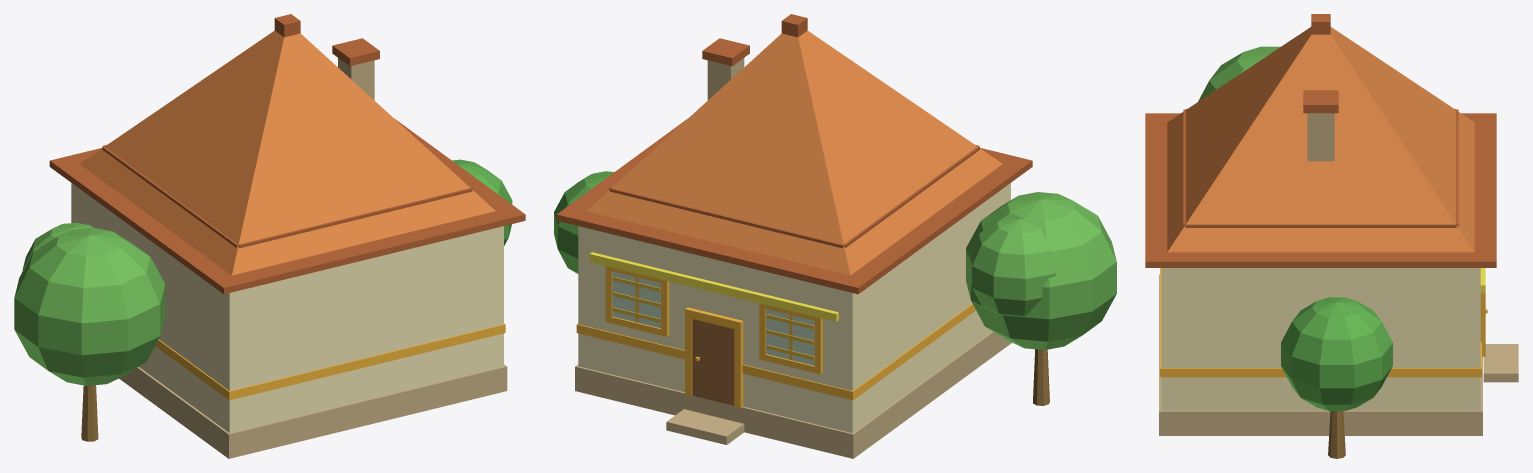
Rendered from casaCremaFinalTablero.glb.
3 views of the same model, side by side, from view 1: azimuth 30°, elevation 25°; view 2: azimuth 150°, elevation 25°; view 3: azimuth 270°, elevation 25° (orthographic).
Visible parts, largest first — view 1: C_Techo_pir, C_Cuerpo, cpCa0, C_Techo_alero, C_Zocalo, C_Franja, C_Techo_tF0, C_ChimCap, cpCb0, trCa, C_Chim, C_Techo_tL0 (+1 smaller); view 2: C_Techo_pir, C_Cuerpo, cpCa0, C_Techo_alero, C_Zocalo, cpCa1, C_Franja, C_Mold, C_P_hB, cpCb0, C_Esc, C_VD_V (+10 smaller); view 3: C_Techo_pir, C_Cuerpo, C_Techo_alero, cpCb0, C_Zocalo, C_Franja, C_Esc, C_Chim, cpCa0, C_Techo_tR0, C_ChimCap, trCb (+1 smaller).
Part boxes in pixels (x1,y1,x2,y2): C_Techo_pir: [79, 30, 495, 275]; C_Cuerpo: [71, 183, 503, 432]; cpCa0: [14, 228, 165, 385]; C_Techo_alero: [49, 119, 525, 294]; C_Zocalo: [119, 364, 507, 458]; C_Franja: [155, 323, 505, 400]; C_Techo_tF0: [236, 187, 472, 248]; C_ChimCap: [332, 38, 379, 66]; cpCb0: [452, 159, 512, 245]; trCa: [81, 385, 98, 441]; C_Chim: [338, 58, 374, 100]; C_Techo_tL0: [102, 146, 238, 247]; C_Techo_pir: [586, 30, 1002, 275]; C_Cuerpo: [578, 183, 1010, 432]; cpCa0: [966, 192, 1116, 349]; C_Techo_alero: [556, 119, 1032, 294]; C_Zocalo: [575, 331, 1011, 458]; cpCa1: [968, 217, 1056, 316]; C_Franja: [576, 303, 975, 400]; C_Mold: [589, 252, 838, 321]; C_P_hB: [692, 353, 734, 405]; cpCb0: [554, 171, 614, 273]; C_Esc: [666, 409, 744, 444]; C_VD_V: [612, 271, 660, 328]; C_Techo_pir: [1167, 27, 1474, 252]; C_Cuerpo: [1161, 268, 1480, 410]; C_Techo_alero: [1145, 113, 1496, 267]; cpCb0: [1281, 297, 1392, 411]; C_Zocalo: [1159, 274, 1482, 435]; C_Franja: [1160, 268, 1481, 377]; C_Esc: [1483, 344, 1518, 382]; C_Chim: [1307, 113, 1334, 161]; cpCa0: [1198, 46, 1280, 101]; C_Techo_tR0: [1185, 222, 1456, 227]; C_ChimCap: [1303, 90, 1338, 113]; trCb: [1328, 411, 1345, 458].
Bounding box in the file's own units: 18.59 × 12.08 × 11.69.
